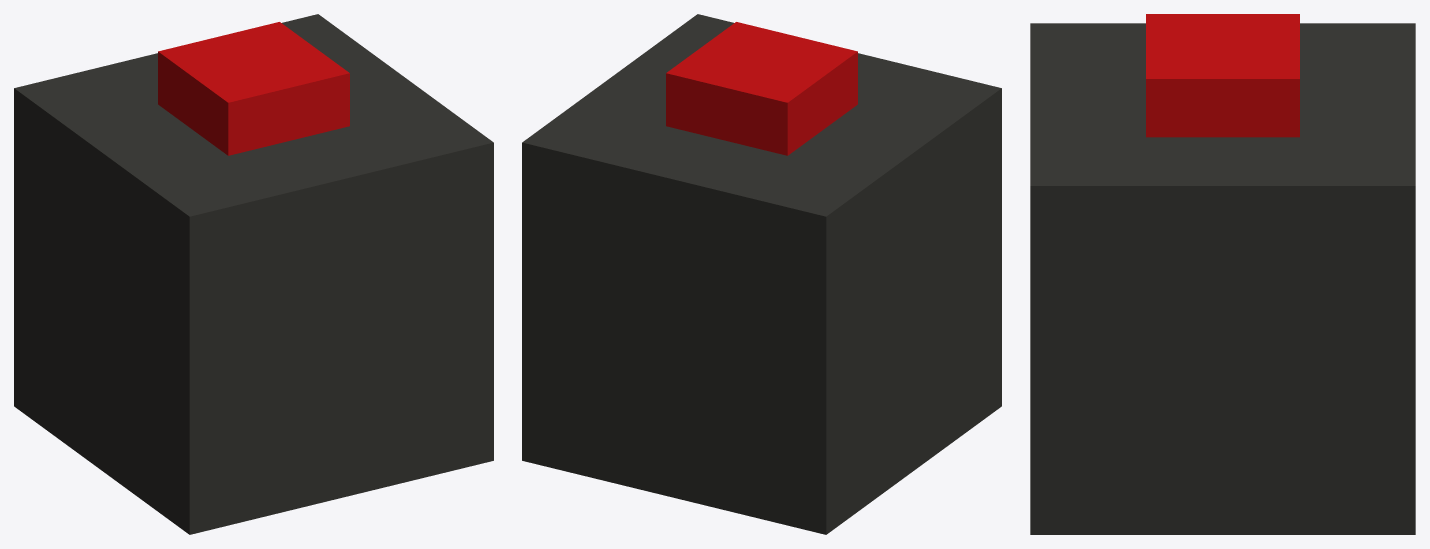
Rendered from switch.obj.
3 renders of one model, left to right at view 1: azimuth 30°, elevation 25°; view 2: azimuth 150°, elevation 25°; view 3: azimuth 270°, elevation 25°, orthographic. The views are drawn at different scales.
Parts seen in each view (by area): view 1: 立方体; view 2: 立方体; view 3: 立方体.
Boxes of the visible parts, bbox=[...] form: 立方体: bbox=[14, 14, 493, 534]; 立方体: bbox=[522, 14, 1001, 534]; 立方体: bbox=[1030, 14, 1415, 534].
Bounding box in the file's own units: 6 × 7 × 6.
